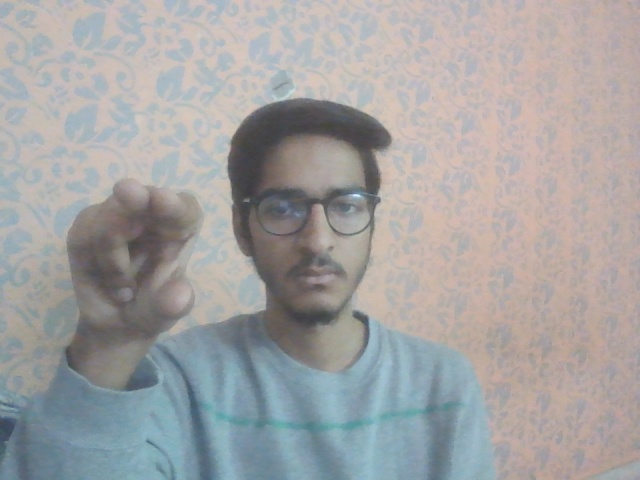No: (59, 174, 207, 342)
